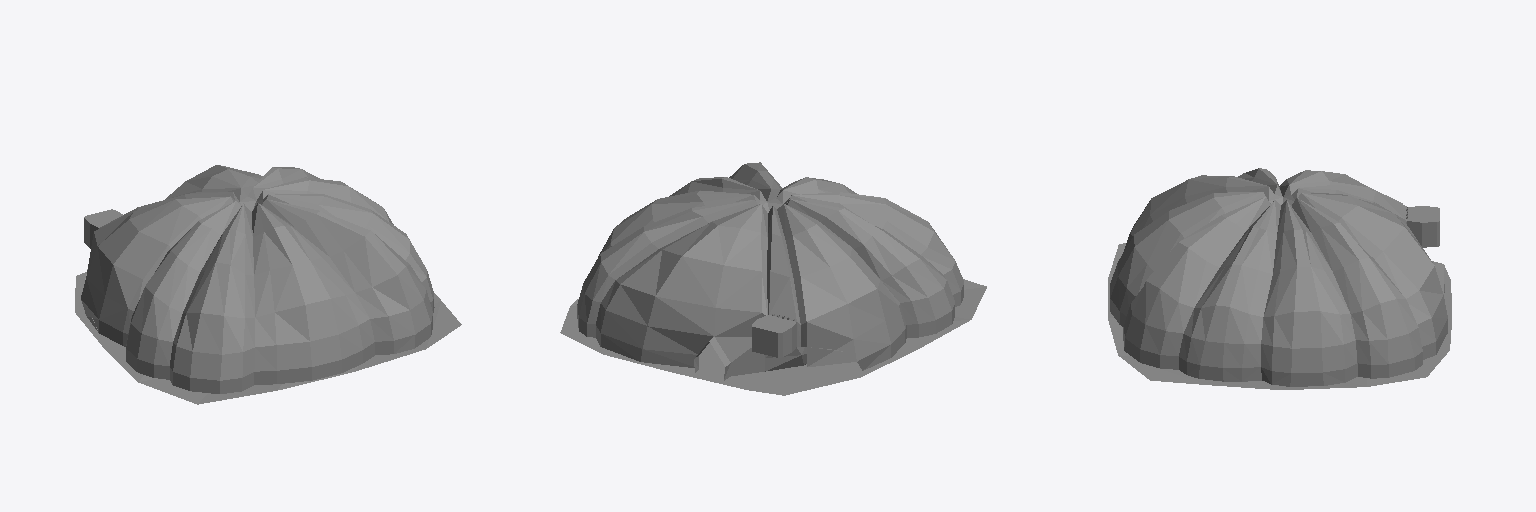
Rendered from Dragon_Cave.obj.
3 views of the same model, side by side, from view 1: azimuth 30°, elevation 25°; view 2: azimuth 150°, elevation 25°; view 3: azimuth 270°, elevation 25° (orthographic).
Parts seen in each view (by area): view 1: CaveWalls_01, CaveFloor_01; view 2: CaveWalls_01, CaveFloor_01; view 3: CaveWalls_01, CaveFloor_01.
Part boxes in pixels (x1,y1,x2,y2): CaveWalls_01: (81, 165, 434, 393); CaveFloor_01: (75, 272, 461, 404); CaveWalls_01: (577, 162, 963, 380); CaveFloor_01: (560, 279, 986, 395); CaveWalls_01: (1110, 168, 1447, 386); CaveFloor_01: (1108, 243, 1451, 389).
Size of the model in its own units: 232 by 84.16 by 215.